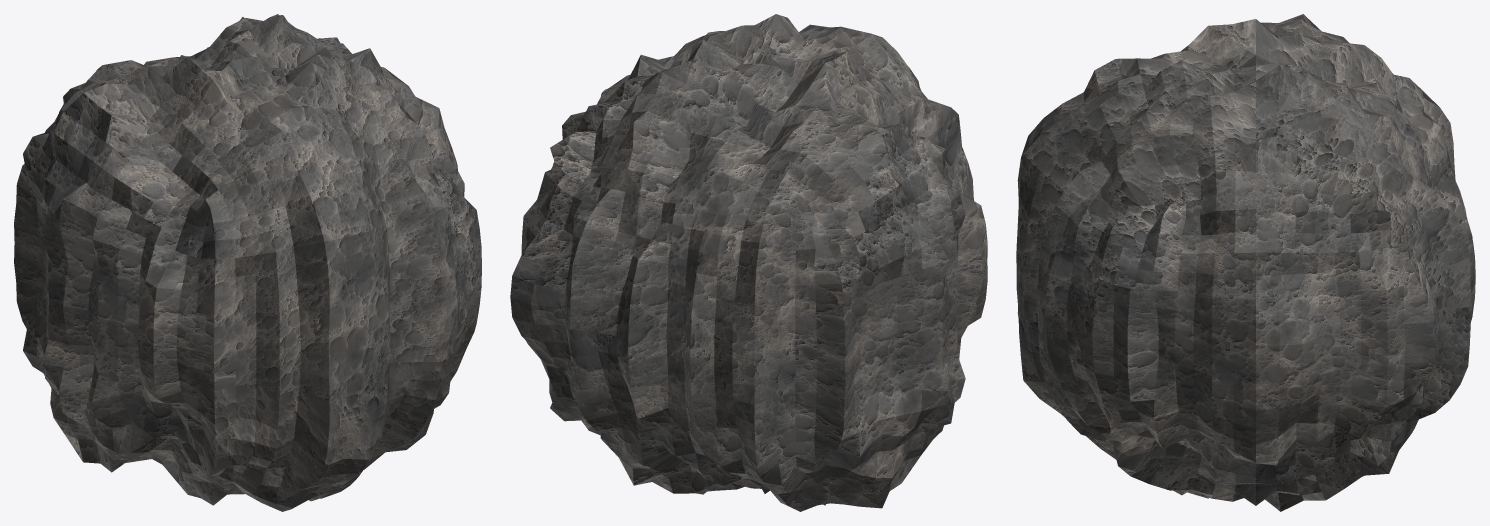
File: asteroid75.obj
3 views of the same model, side by side, from view 1: azimuth 30°, elevation 25°; view 2: azimuth 150°, elevation 25°; view 3: azimuth 270°, elevation 25° (orthographic).
Visible parts, largest first — view 1: Cube_Cube.002; view 2: Cube_Cube.002; view 3: Cube_Cube.002.
Boxes of the visible parts, box(x1,y1,x2,y2) form: Cube_Cube.002: box(14, 14, 481, 511); Cube_Cube.002: box(510, 14, 987, 511); Cube_Cube.002: box(1016, 14, 1475, 511).
Size of the model in its own units: 1.78 by 1.89 by 1.76.
